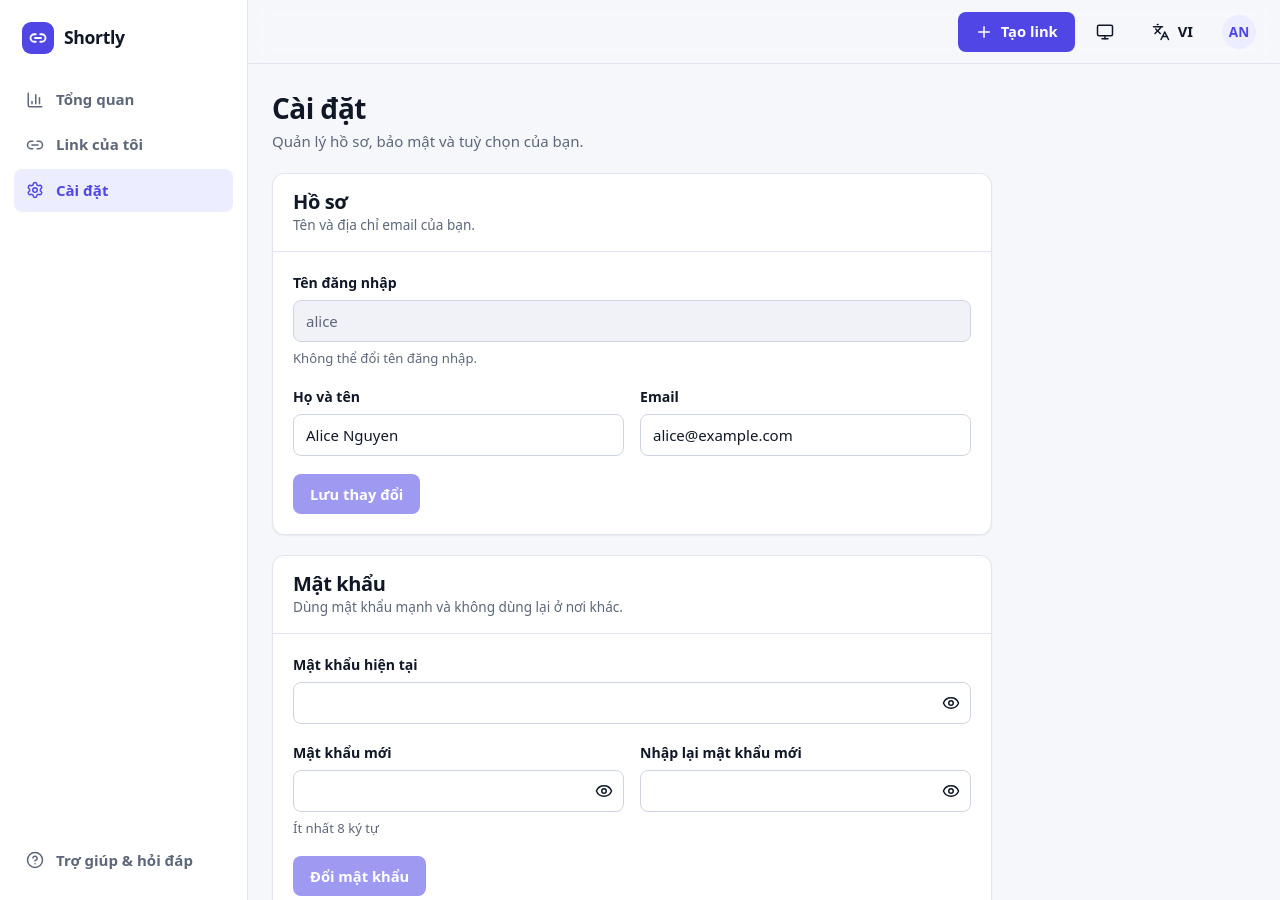
cài đặt: hồ sơ › lưu thành công thì nút khoá lại (hồ sơ mới trở thành giá trị hiện tại)
The image size is (1280, 900).
Replace the text in the field labelled "Họ và tên" with "Alice Tran" at [458, 435], box [293,414,624,456]
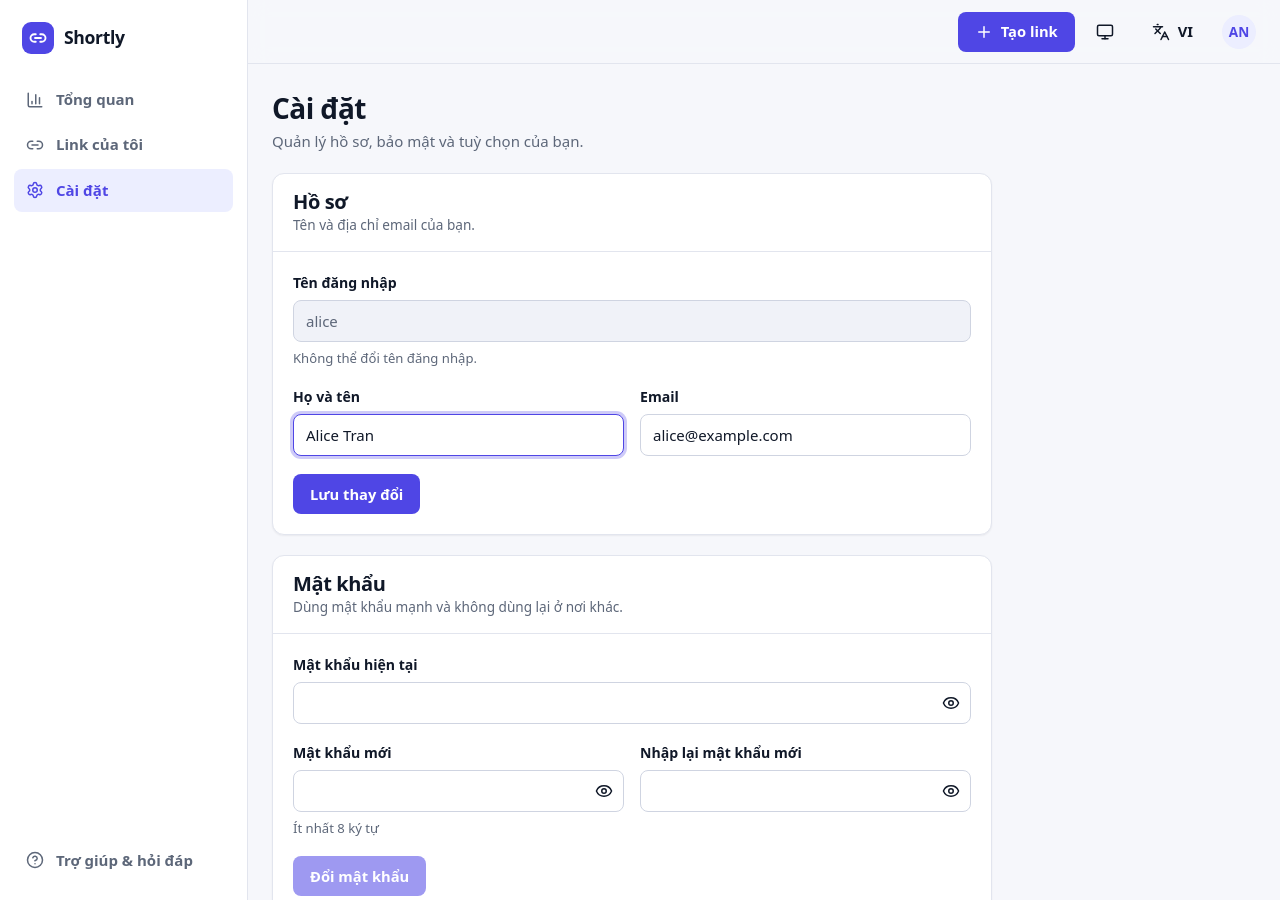
Click the button "Lưu thay đổi" at [357, 494], box [293,474,420,514]
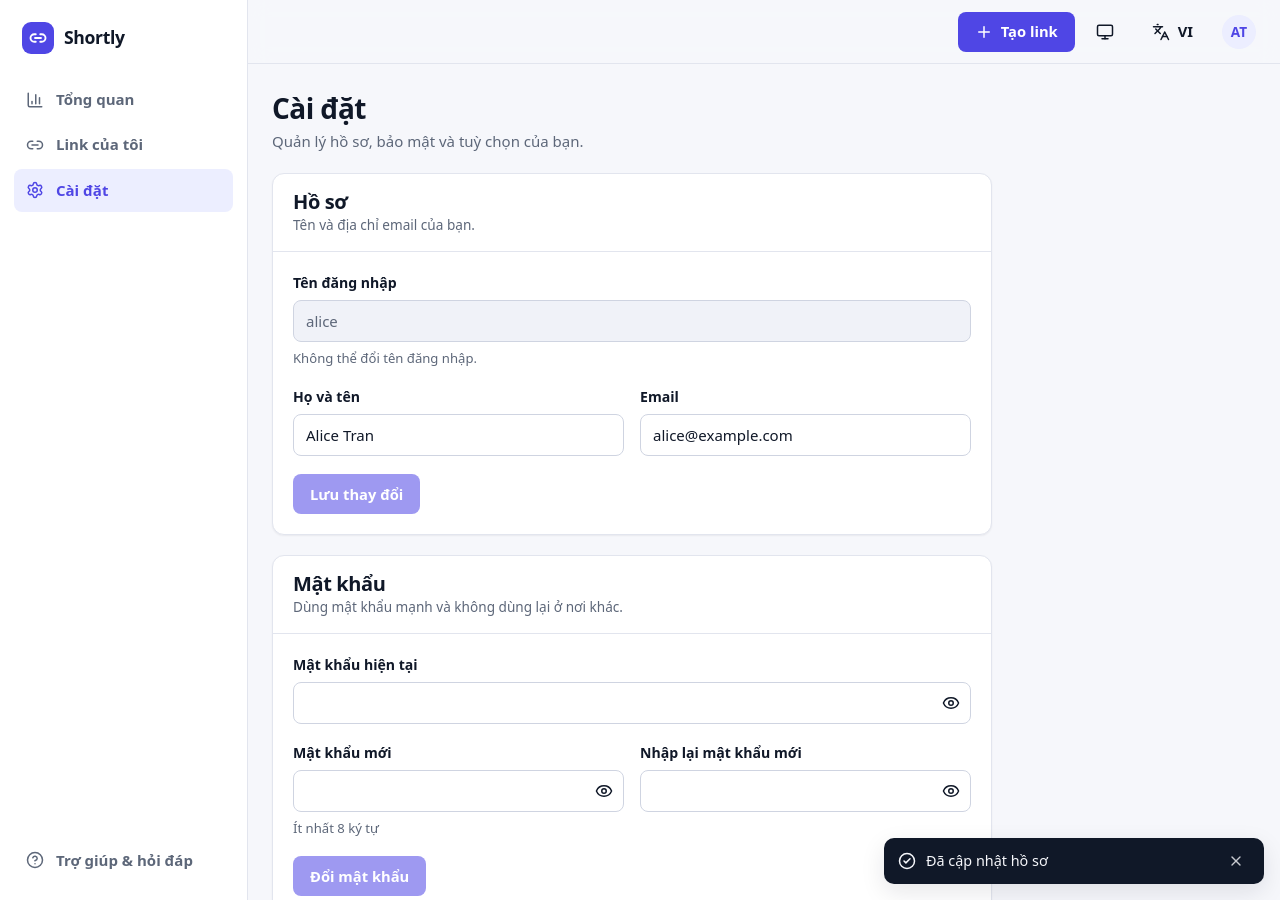
Expected: the text "Đã cập nhật hồ sơ" is shown, [926,850,1048,872]
Expected: the button "Lưu thay đổi" is disabled, [293,474,420,514]
